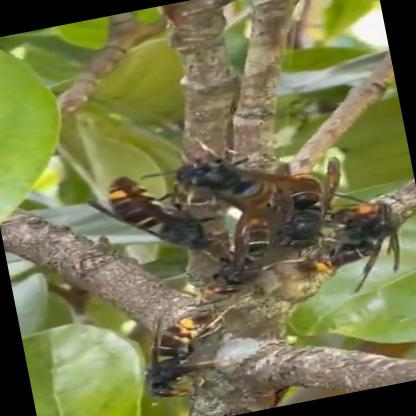bee: (72, 101, 416, 330), (113, 306, 250, 405)
